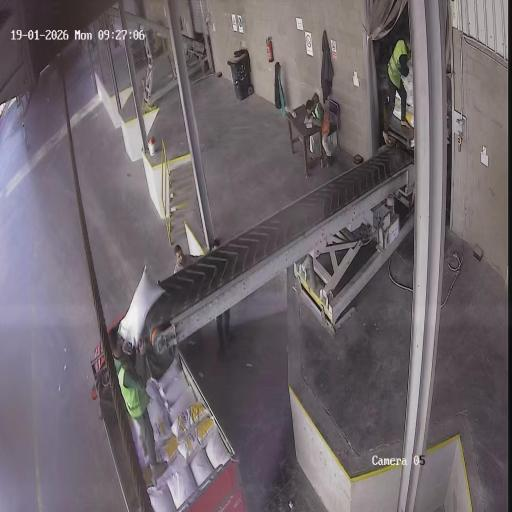c-belt-sack-count: (118, 266, 163, 346)
